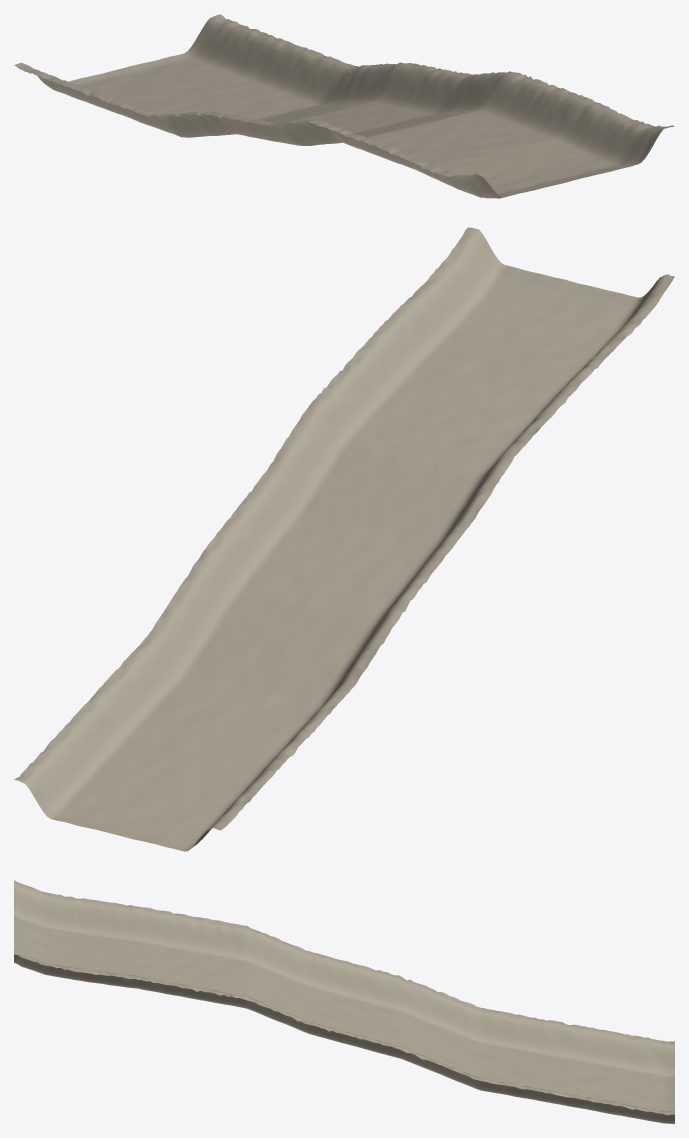
The model's file is aquatic_seafloor.glb.
3 renders of one model, top to bottom at view 1: azimuth 30°, elevation 25°; view 2: azimuth 150°, elevation 25°; view 3: azimuth 270°, elevation 25°, orthographic. The views are drawn at different scales.
Visible parts, largest first — view 1: AquaticSeafloor; view 2: AquaticSeafloor; view 3: AquaticSeafloor.
Part boxes in pixels (x1,y1,x2,y2): AquaticSeafloor: [14, 14, 674, 198]; AquaticSeafloor: [14, 227, 674, 851]; AquaticSeafloor: [14, 880, 674, 1123].
Size of the model in its own units: 112 by 131 by 426.
